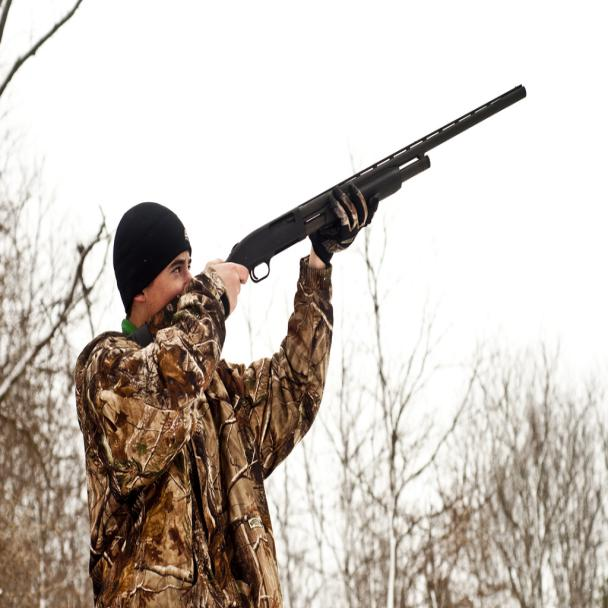Gun: (211, 80, 534, 300)
Hand: (304, 180, 373, 279), (197, 251, 256, 334)
